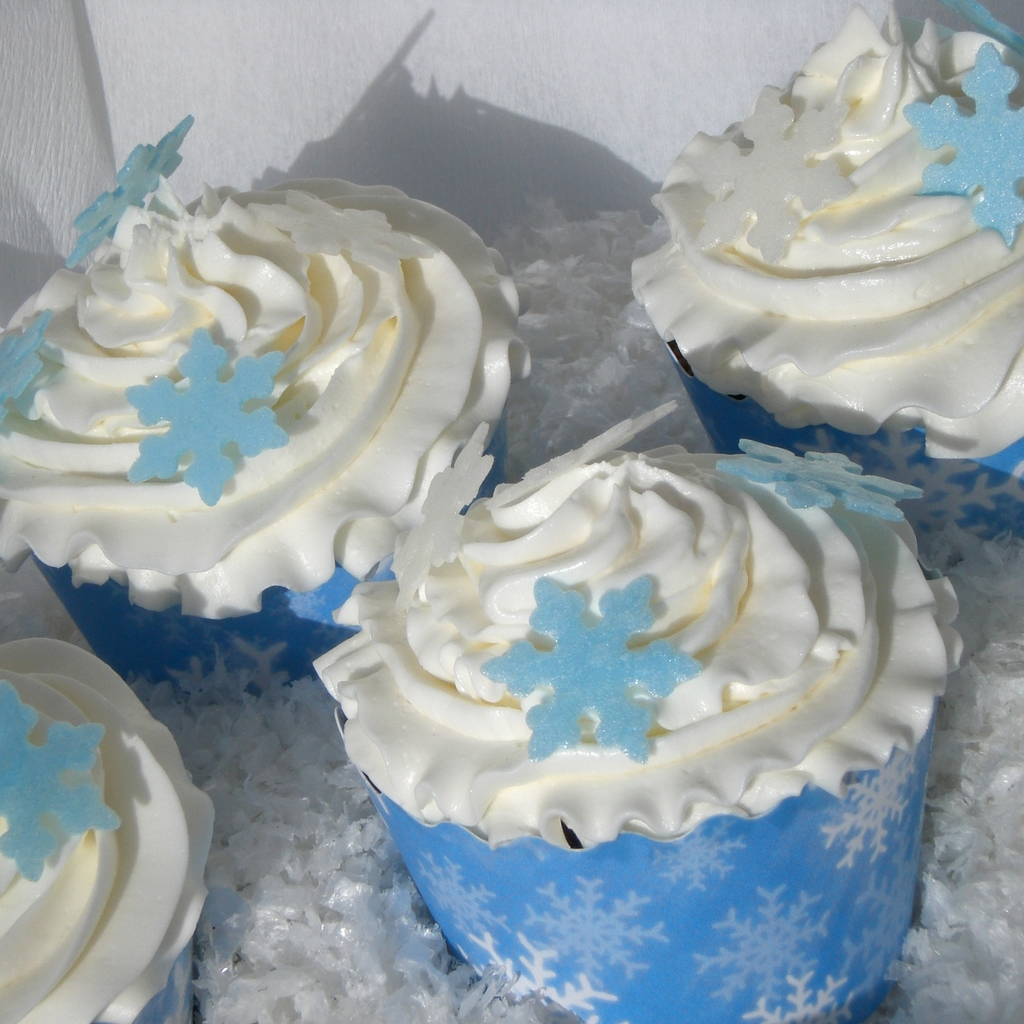cake: (324, 371, 931, 990)
